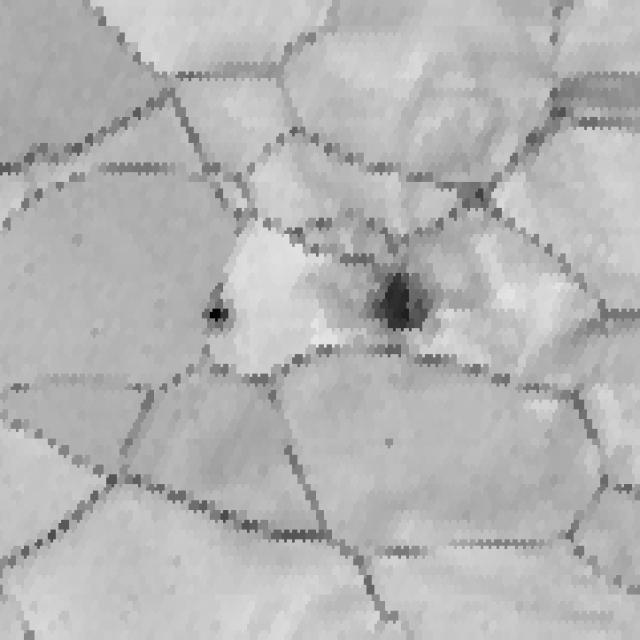good_void: (347, 246, 460, 355), (198, 281, 239, 341), (381, 426, 401, 458)
